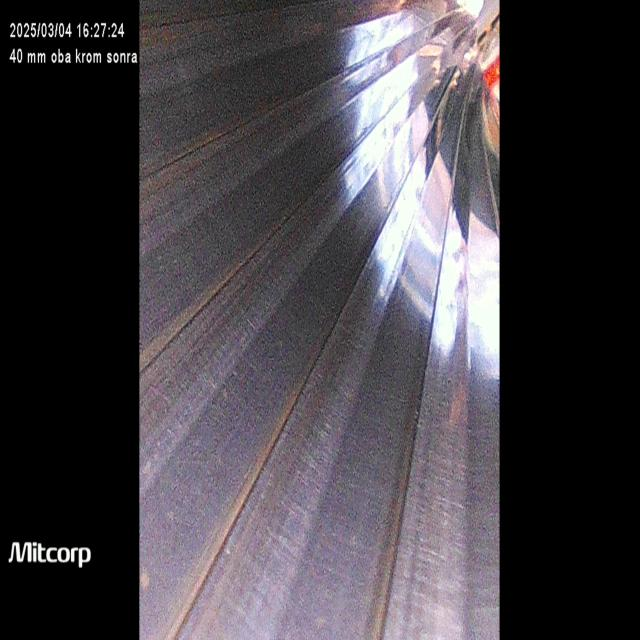hata_4.2: (450, 365, 478, 438), (138, 540, 155, 610), (271, 331, 292, 366), (217, 374, 234, 414)
